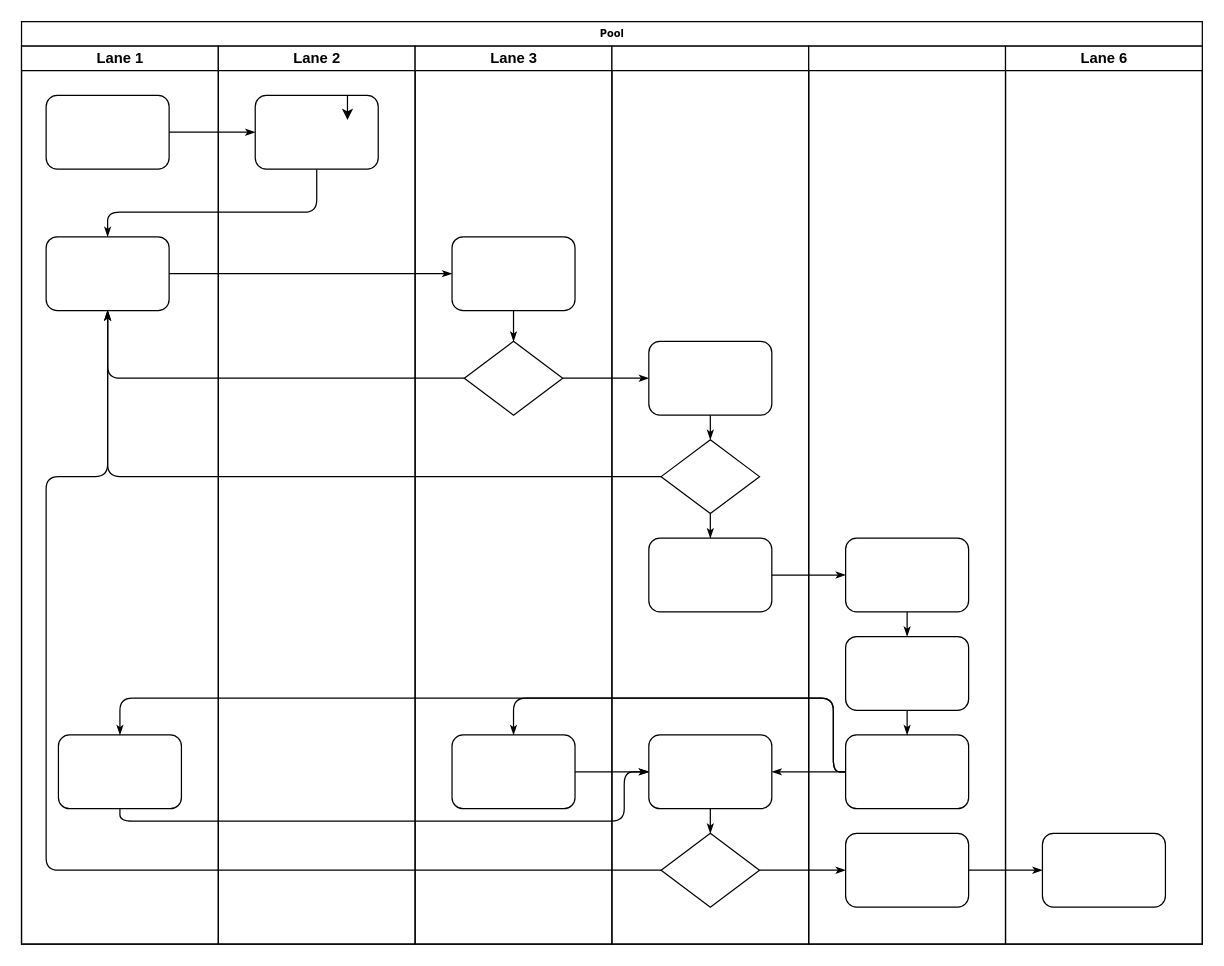
This 1224x966 diagram has some shape labels left out. Here are the shapes that lost their labels. From the top down, the box of each, then its label:
(611, 45, 809, 944): Lane 4
(807, 45, 1006, 944): Lane 5
